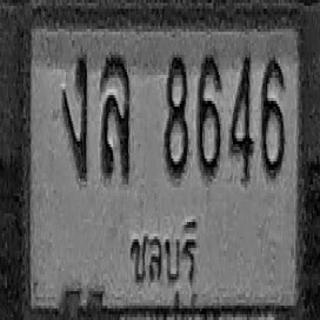A07: (61, 52, 87, 179)
A36: (100, 52, 130, 179)
N04: (230, 50, 253, 180)
N06: (196, 52, 221, 179), (261, 53, 285, 177)
N08: (164, 53, 188, 177)
P13: (125, 206, 202, 305)
